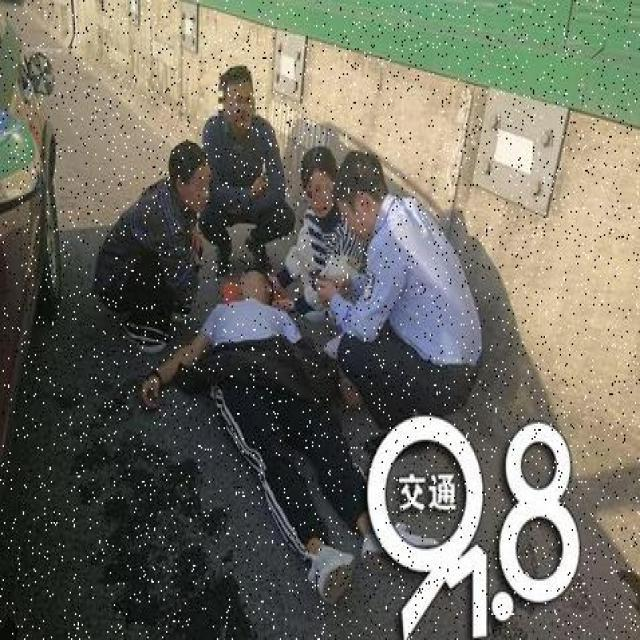fall: (185, 268, 356, 572)
